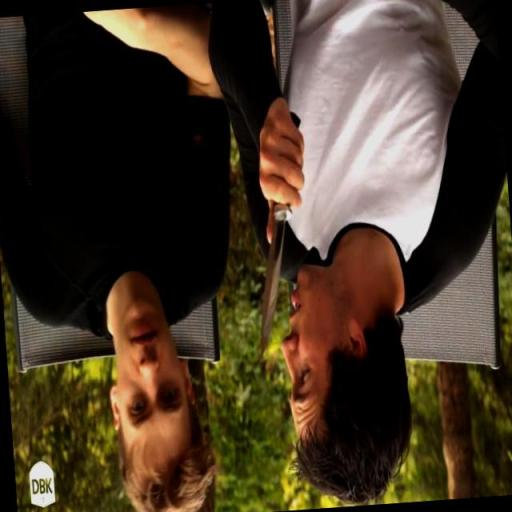knife: (239, 92, 326, 368)
